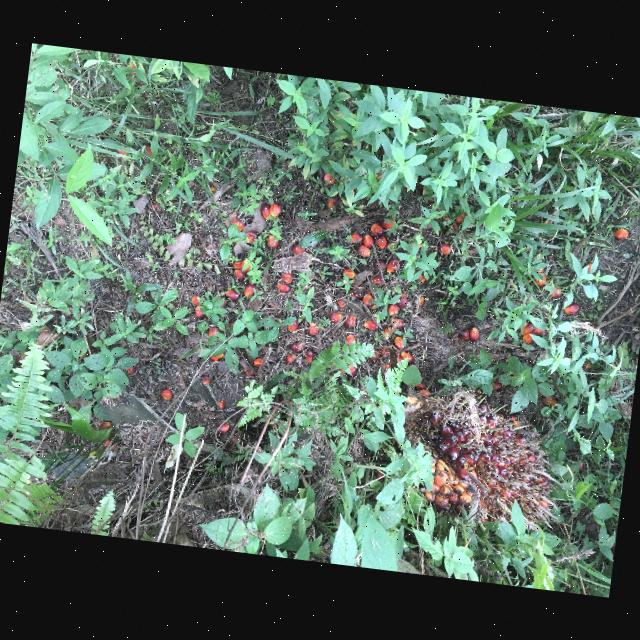Ripe: (403, 390, 545, 525)
